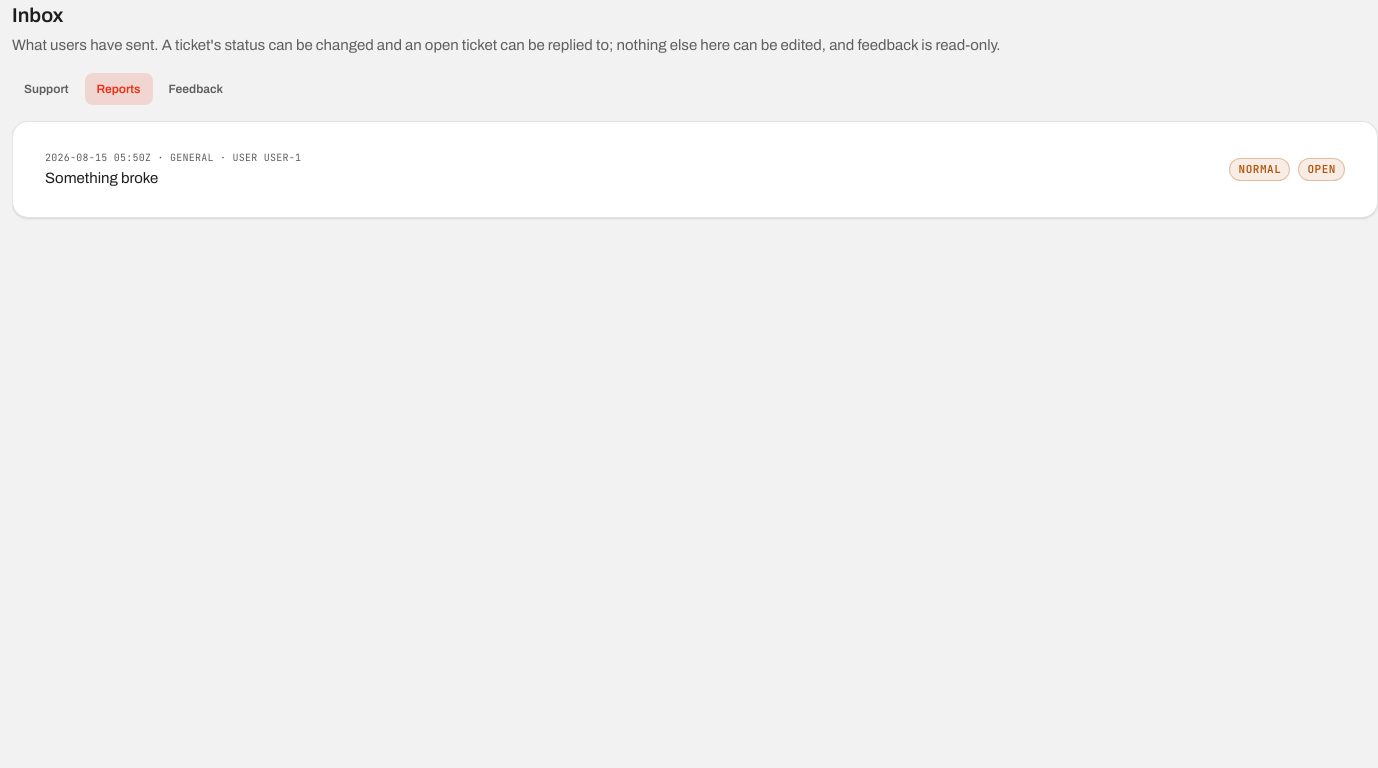
AdminInboxPanel — reply › shows a composer on an open ticket and appends the server's message
Click the button "Something broke": (98, 157) top-left (29, 138), bottom-right (1361, 201)
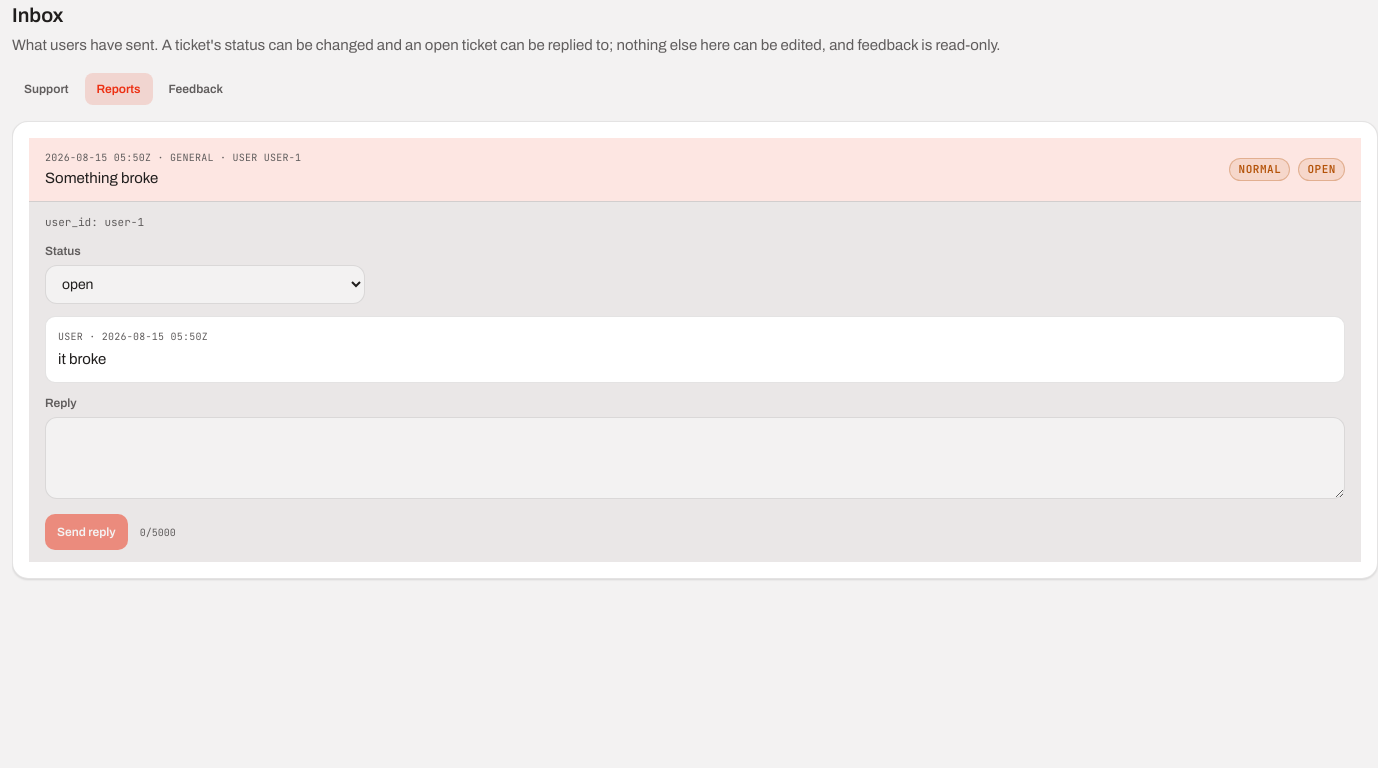
In the text box: (695, 458) top-left (45, 417), bottom-right (1345, 499), type "  typed reply  "
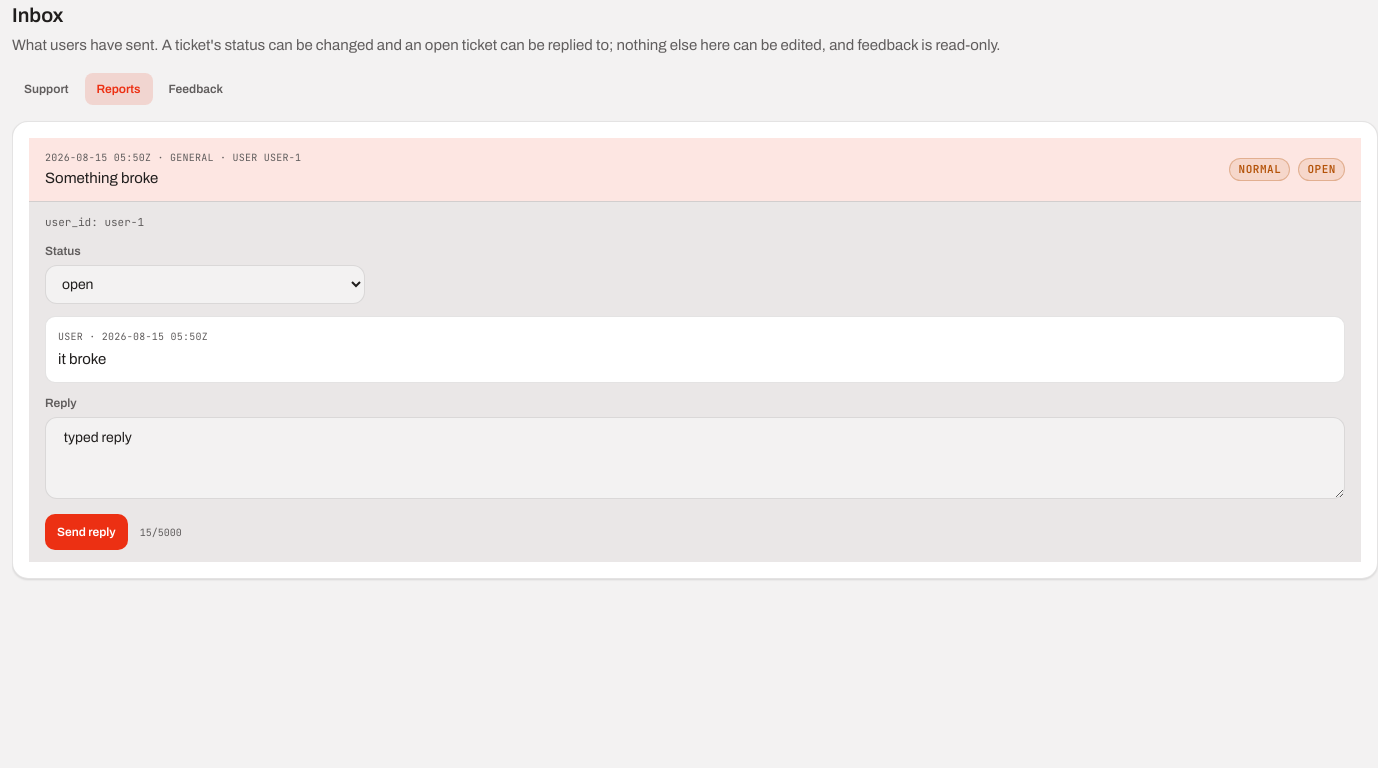
Click the button "Send reply": (86, 532) top-left (45, 514), bottom-right (128, 550)
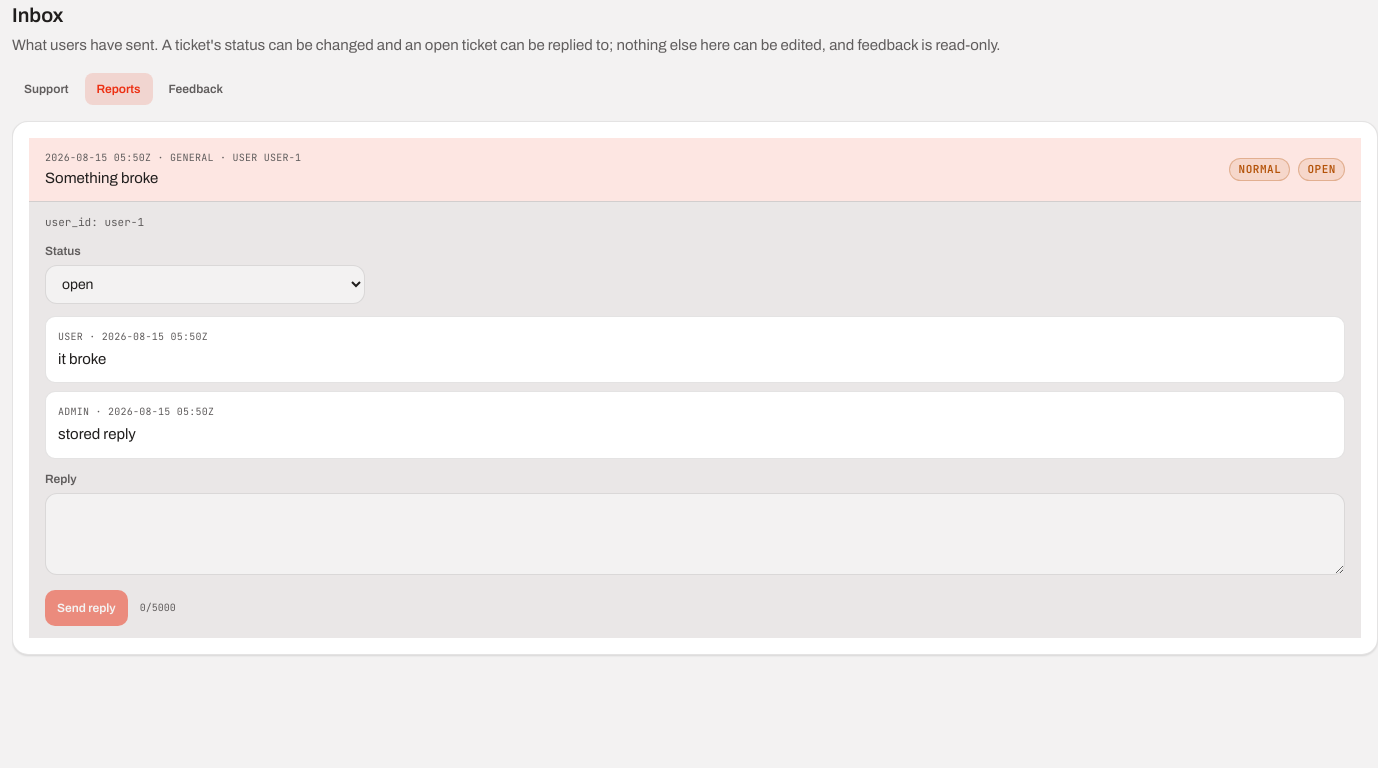
Check: the text "typed reply" is not shown
Check: the text "stored reply" is shown, box top-left (58, 426), bottom-right (136, 442)
Check: the text box is empty, box top-left (45, 492), bottom-right (1345, 574)
